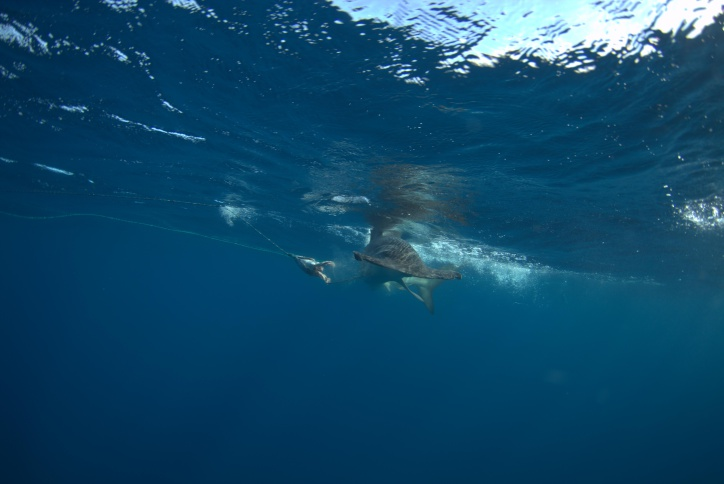Hammer: (301, 132, 543, 315)
